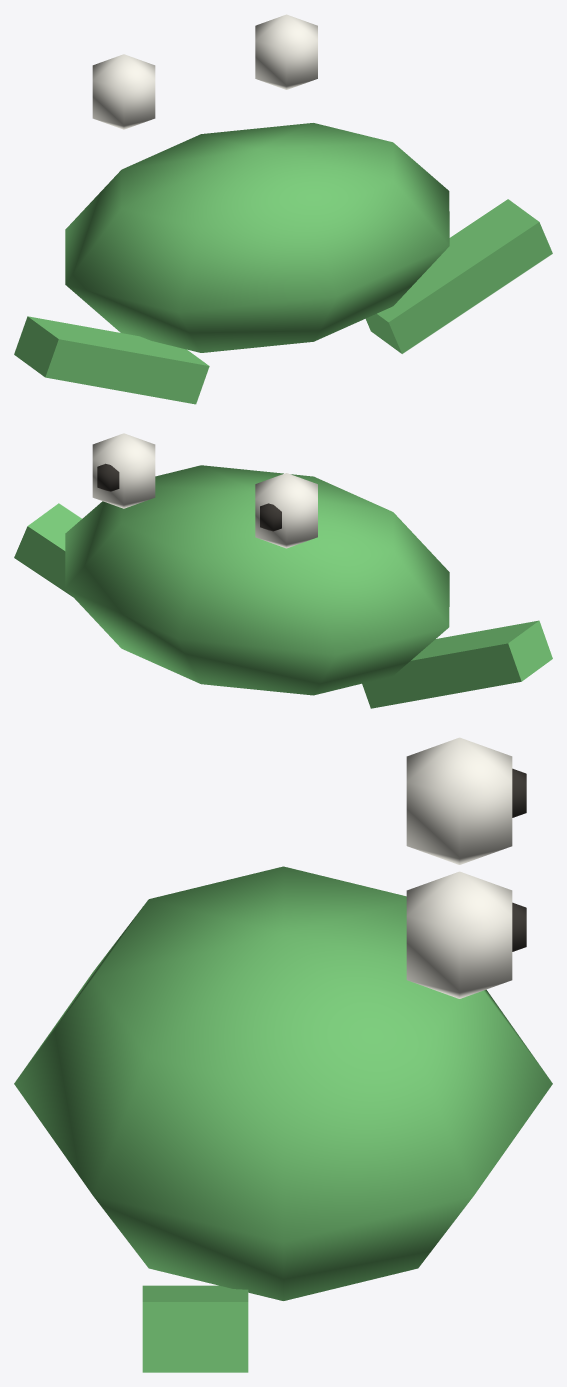
The model's file is frog.glb.
3 views of the same model, one above another, from view 1: azimuth 30°, elevation 25°; view 2: azimuth 150°, elevation 25°; view 3: azimuth 270°, elevation 25° (orthographic). The views are drawn at different scales.
Parts seen in each view (by area): view 1: frog; view 2: frog; view 3: frog.
Boxes of the visible parts, x1,y1,x2,y2 form: frog: (14, 14, 552, 404); frog: (14, 433, 552, 708); frog: (14, 737, 552, 1372).
Bounding box in the file's own units: 1.12 × 0.5845 × 0.612.
